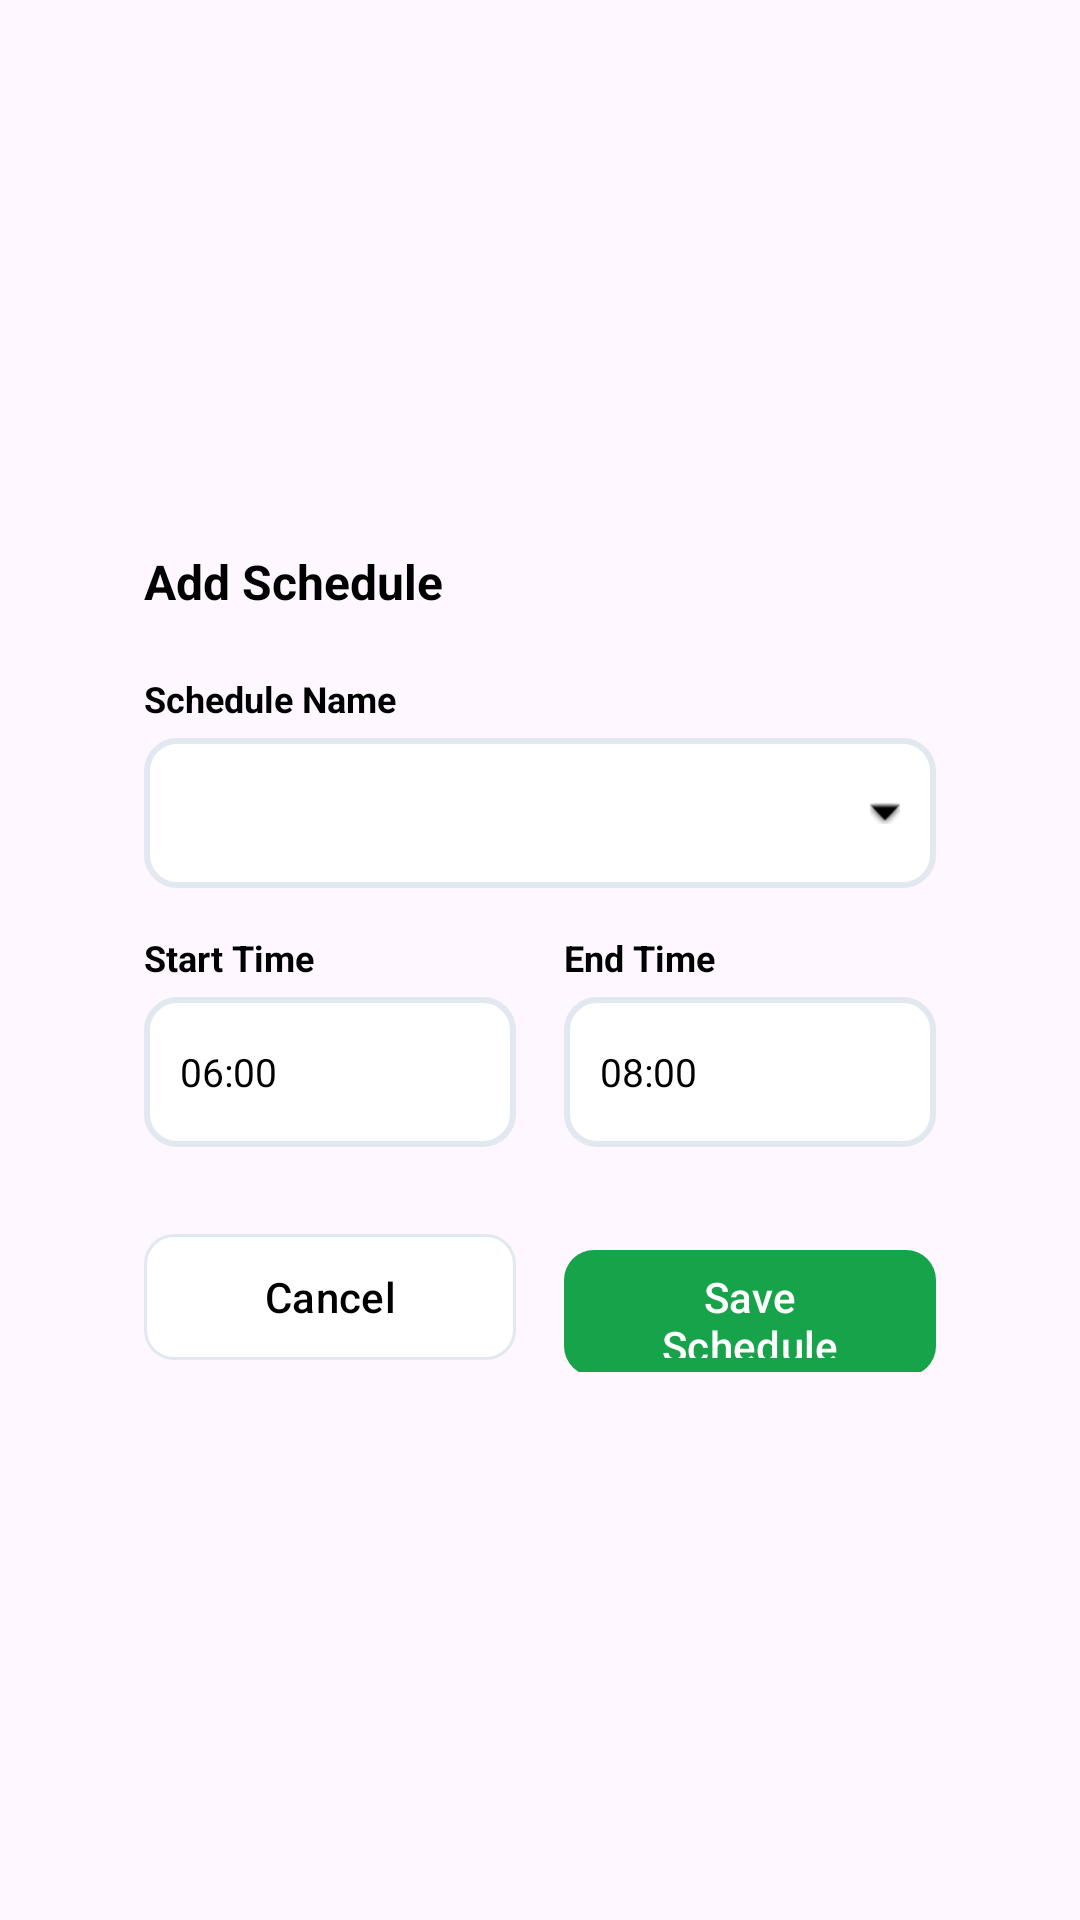

Screen size 1080px x 1920px. Icon name, then its center in pixels as point (x, y):
Dropdown arrow: point (885, 813)
